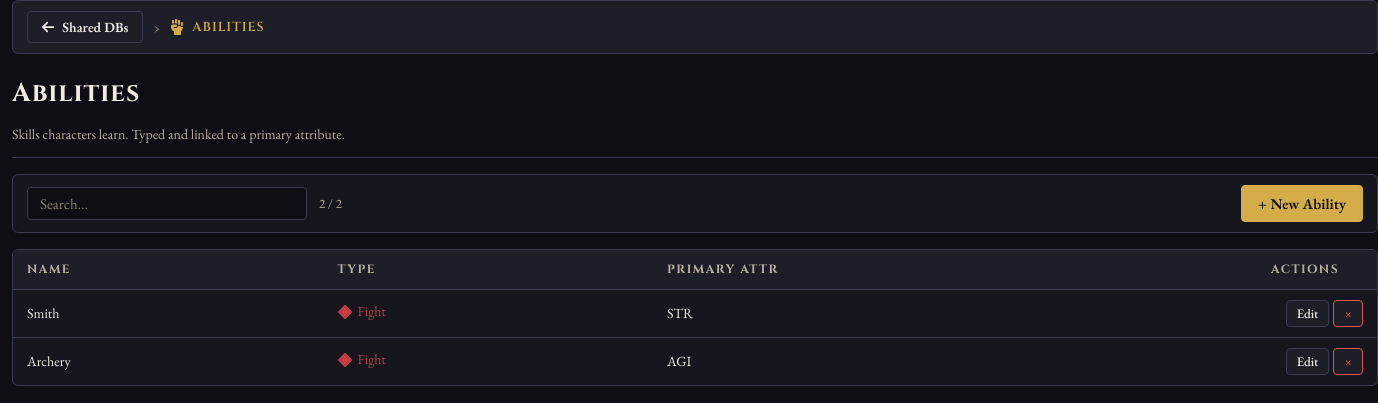
it: RefTablePage › filters rows by search
expect the text "Smith" is shown: met, box [13, 289, 324, 337]
Type "arch" into the field with placeholder "Search..." at (167, 204), box [27, 187, 307, 220]
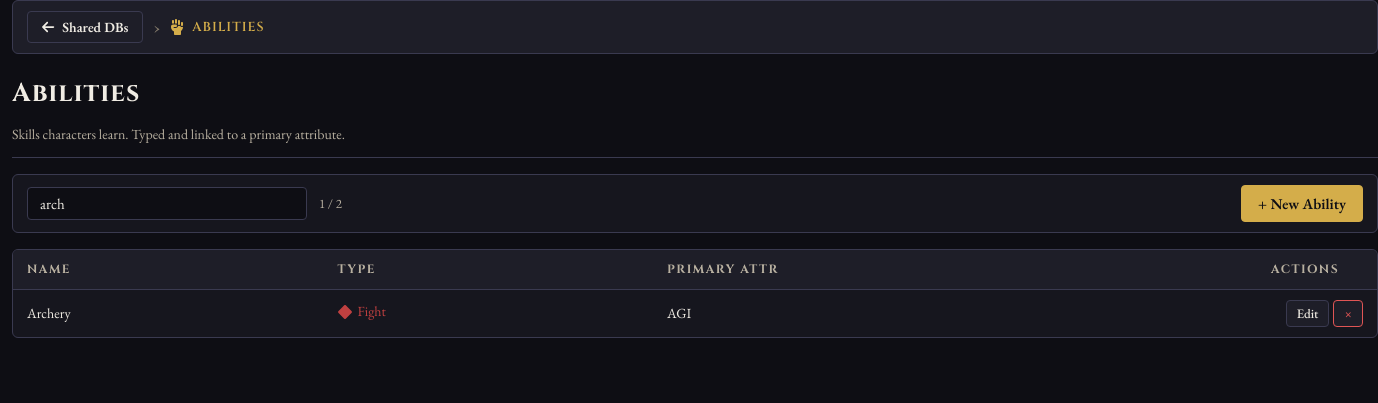
expect the text "Archery" is shown: met, box [13, 289, 324, 337]
expect the text "Smith" is gone: met
